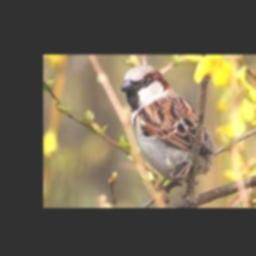Sparrow: (119, 65, 214, 191)
